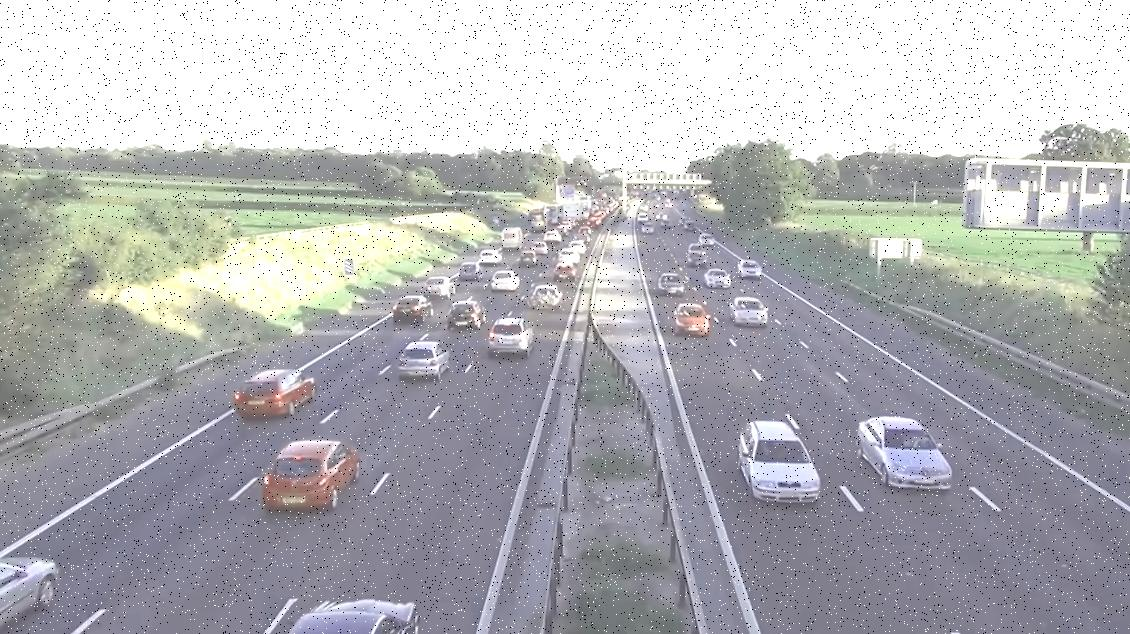car: (856, 416, 953, 491), (737, 420, 821, 506), (264, 441, 365, 509), (259, 597, 433, 634), (0, 550, 59, 634), (229, 370, 315, 408), (398, 345, 446, 383), (489, 318, 531, 353), (672, 301, 710, 336), (729, 296, 769, 328), (392, 295, 434, 323), (445, 301, 483, 329), (423, 277, 457, 299), (657, 275, 690, 297), (490, 269, 520, 291), (704, 272, 732, 290), (555, 261, 580, 280), (457, 262, 484, 278), (737, 261, 760, 277), (477, 249, 500, 265), (519, 250, 539, 268), (700, 234, 714, 246)
